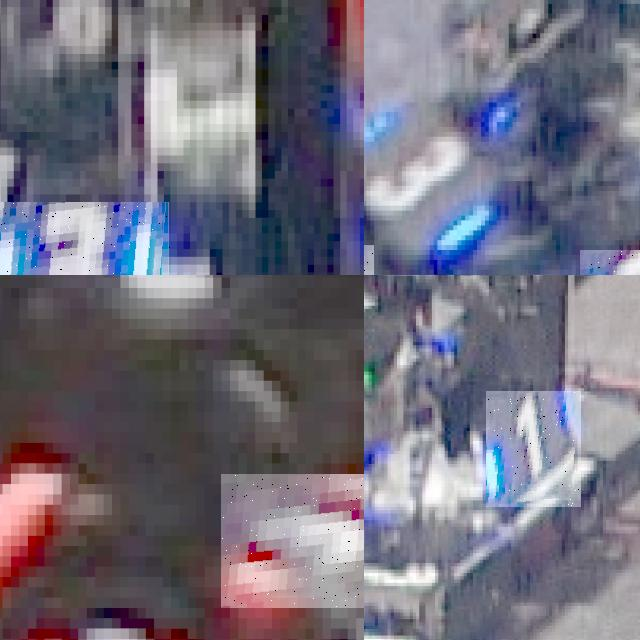B1: (486, 391, 581, 507)
B3: (0, 202, 170, 275)
R3: (221, 474, 364, 608)
